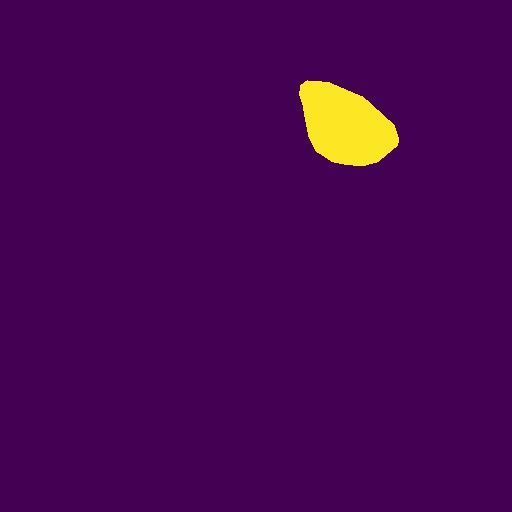Menigiomia_tumour: (299, 80, 399, 166)
